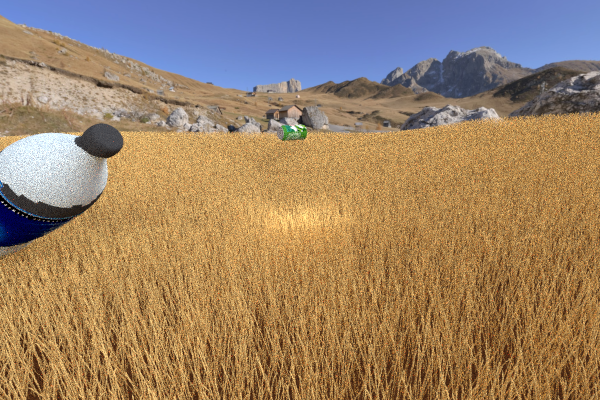bottle: (0, 123, 123, 264)
can: (277, 124, 307, 140)
